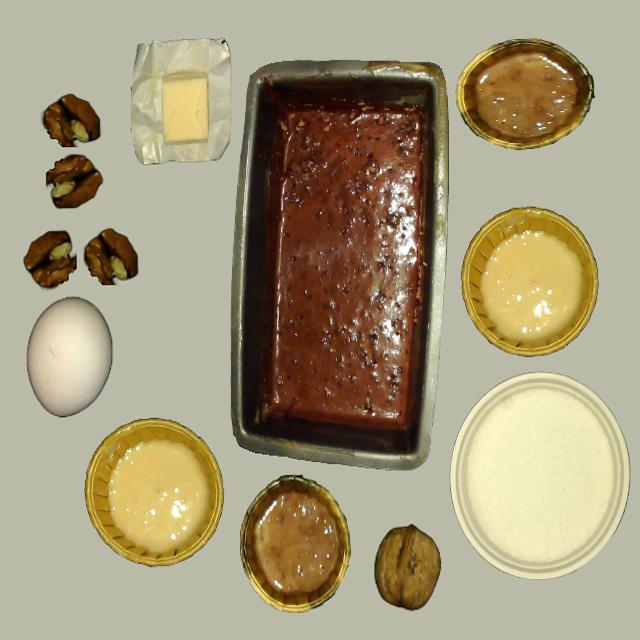Sugar: (464, 386, 614, 567)
Walnut: (374, 528, 441, 608)
